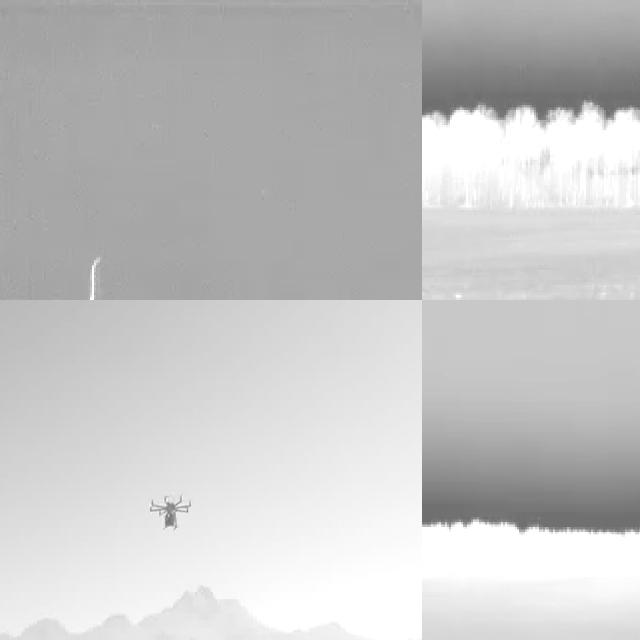drone: (144, 489, 193, 540)
